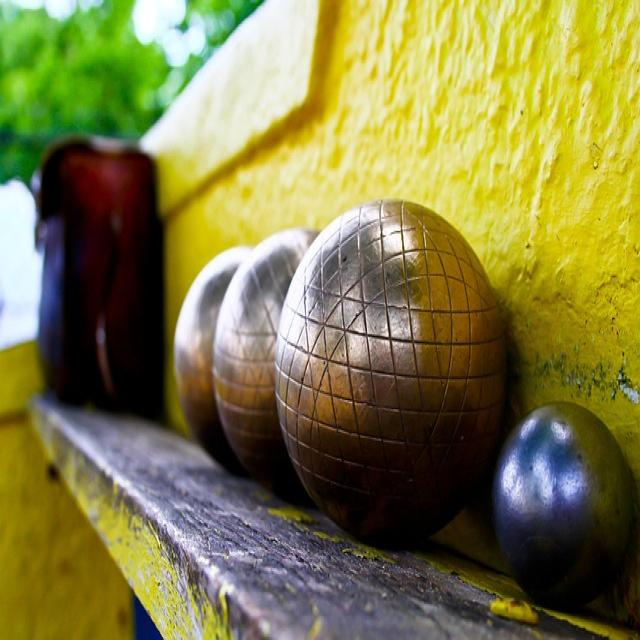hatball: (486, 403, 638, 615)
petanque: (277, 199, 507, 555), (213, 216, 322, 502), (160, 239, 254, 490)
